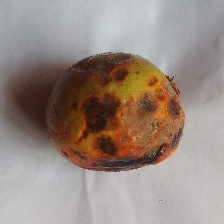guava: (34, 21, 199, 182)
